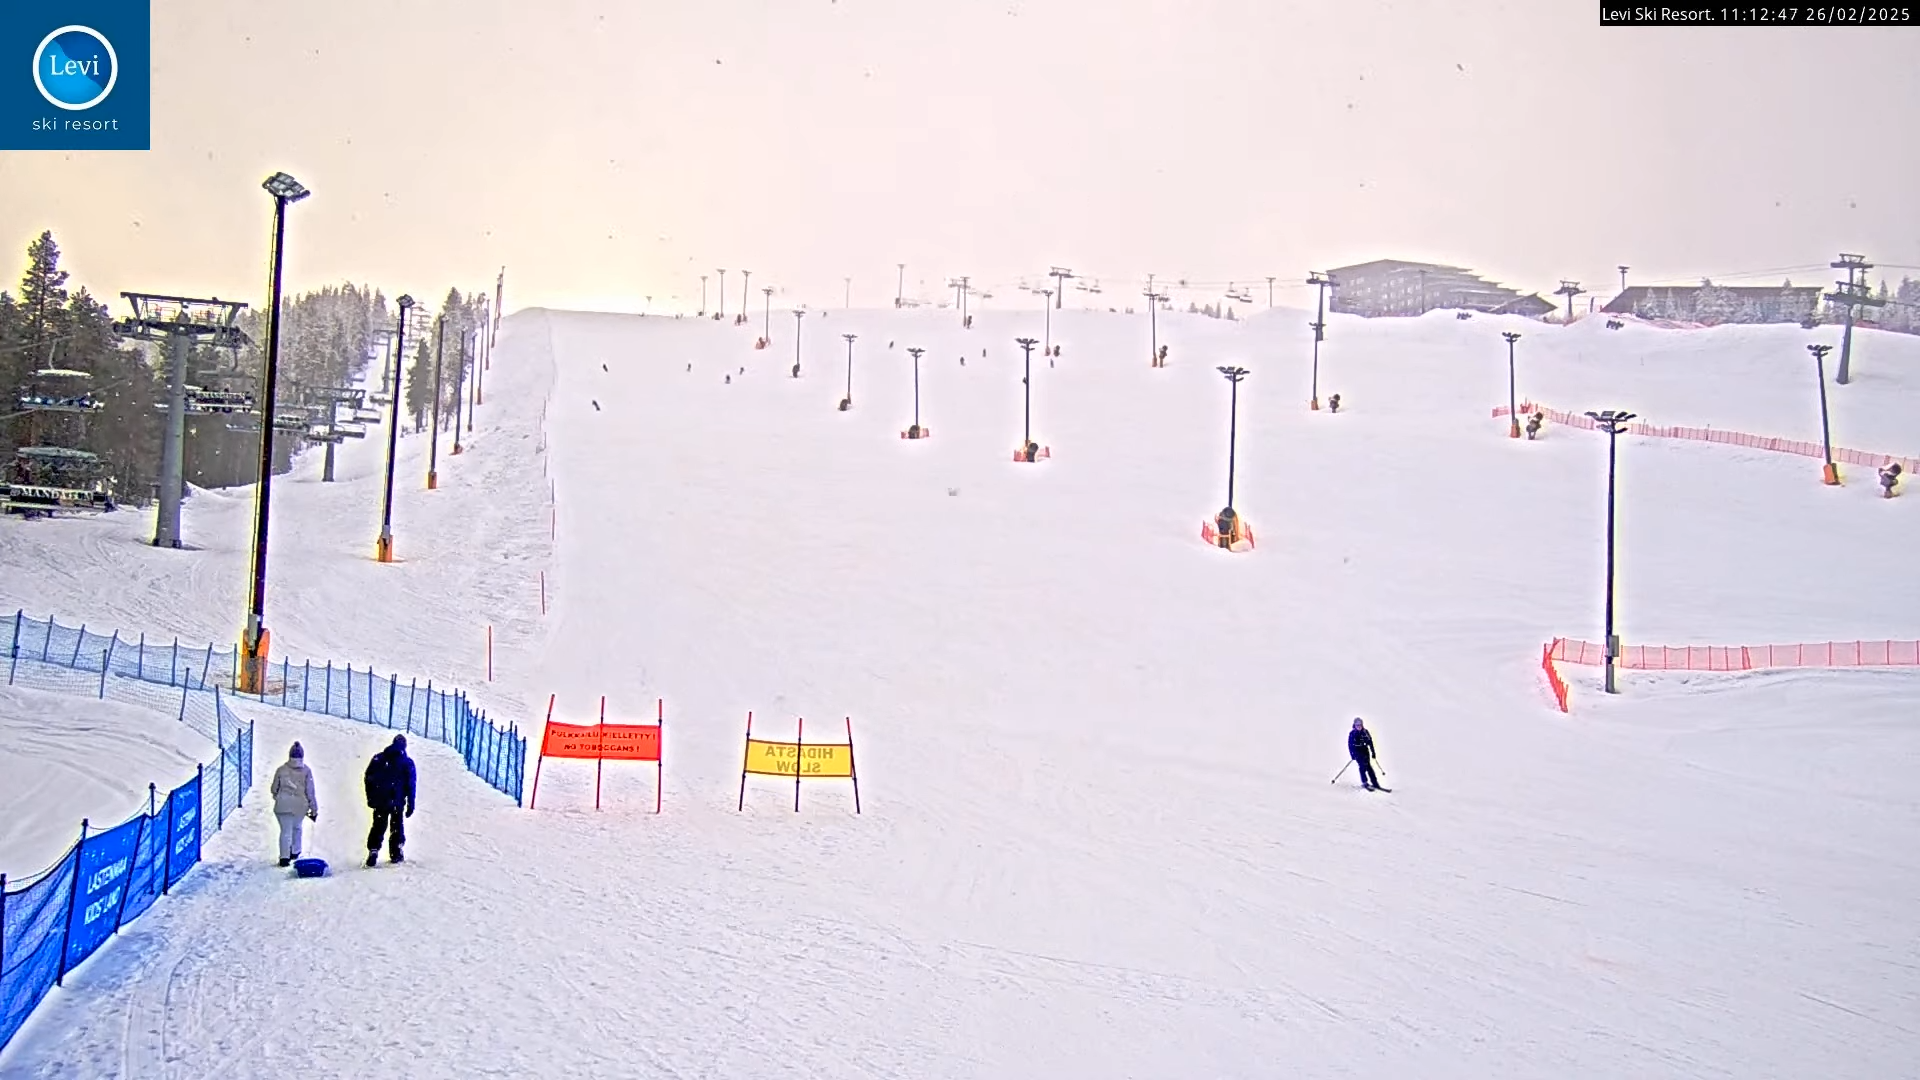skier: (1331, 712, 1396, 793)
